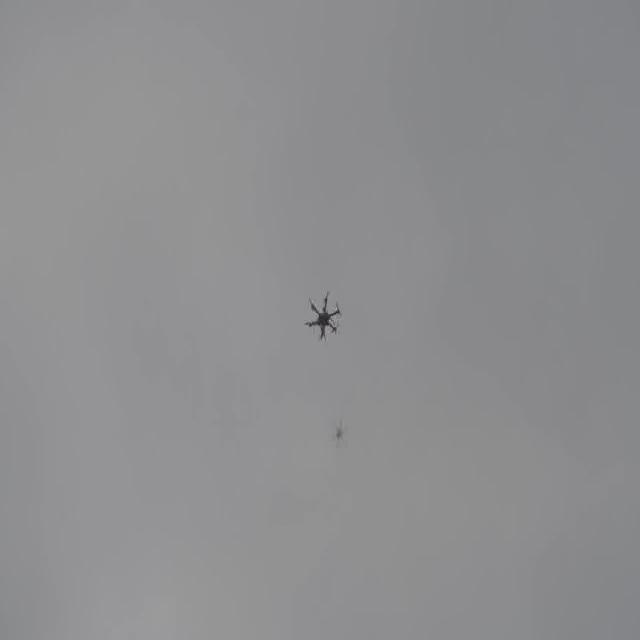drone: (304, 287, 342, 340)
